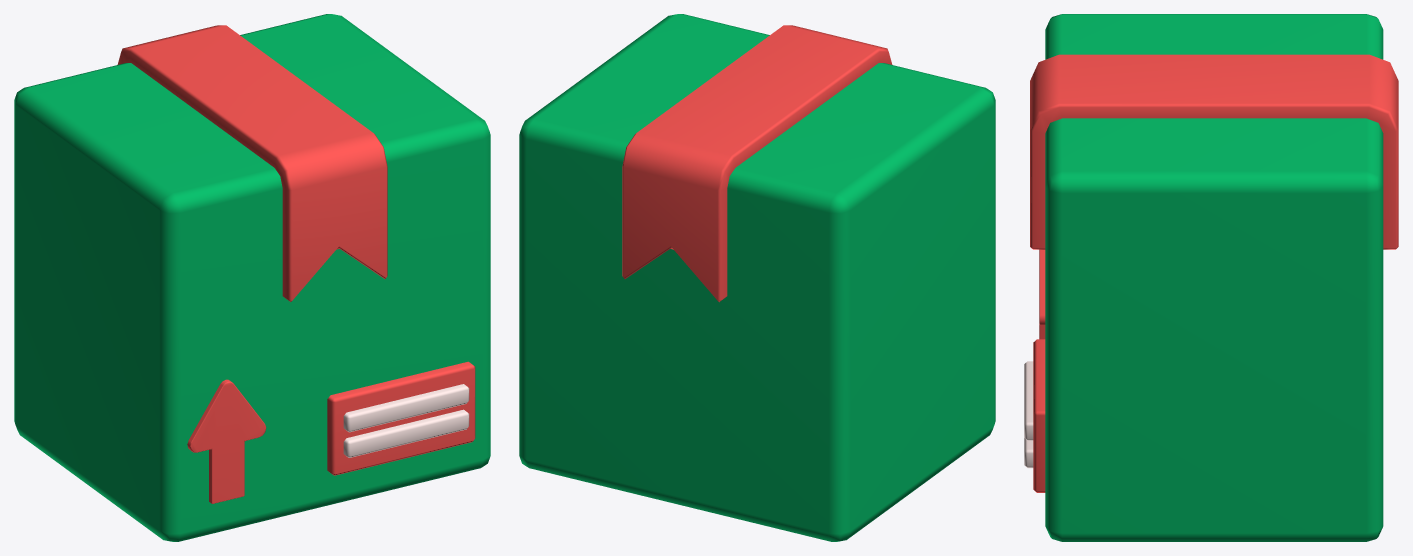
File: City_14_Parcel_3.glb
3 renders of one model, left to right at view 1: azimuth 30°, elevation 25°; view 2: azimuth 150°, elevation 25°; view 3: azimuth 270°, elevation 25°, orthographic. The views are drawn at different scales.
Parts seen in each view (by area): view 1: City_14_Parcel_3; view 2: City_14_Parcel_3; view 3: City_14_Parcel_3.
Part boxes in pixels (x1,y1,x2,y2): City_14_Parcel_3: (14,14,490,541); City_14_Parcel_3: (519,14,995,541); City_14_Parcel_3: (1024,14,1398,541).
Size of the model in its own units: 0.5766 by 0.6049 by 0.5343.
Materials: 1 (1 with a texture image).
